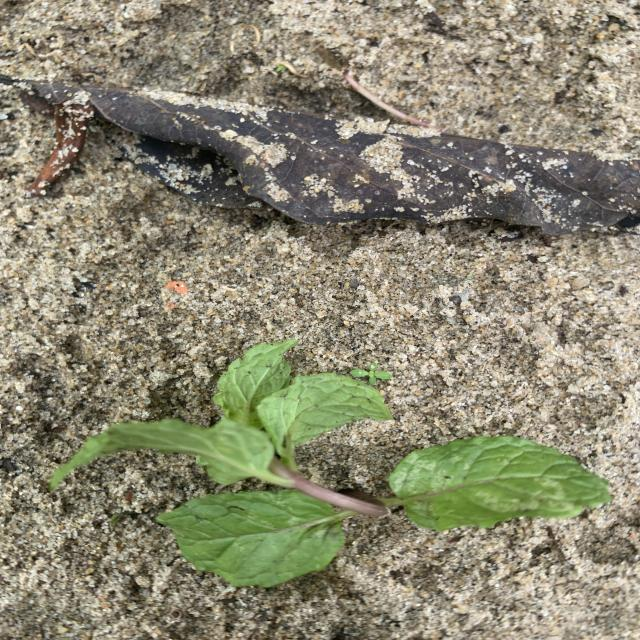crop: (50, 340, 610, 587)
weed: (352, 363, 391, 384)
